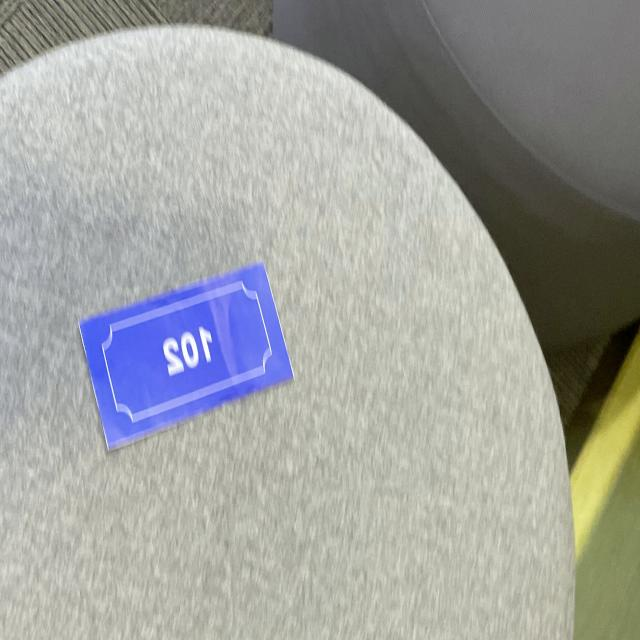Card: (70, 245, 306, 462)
